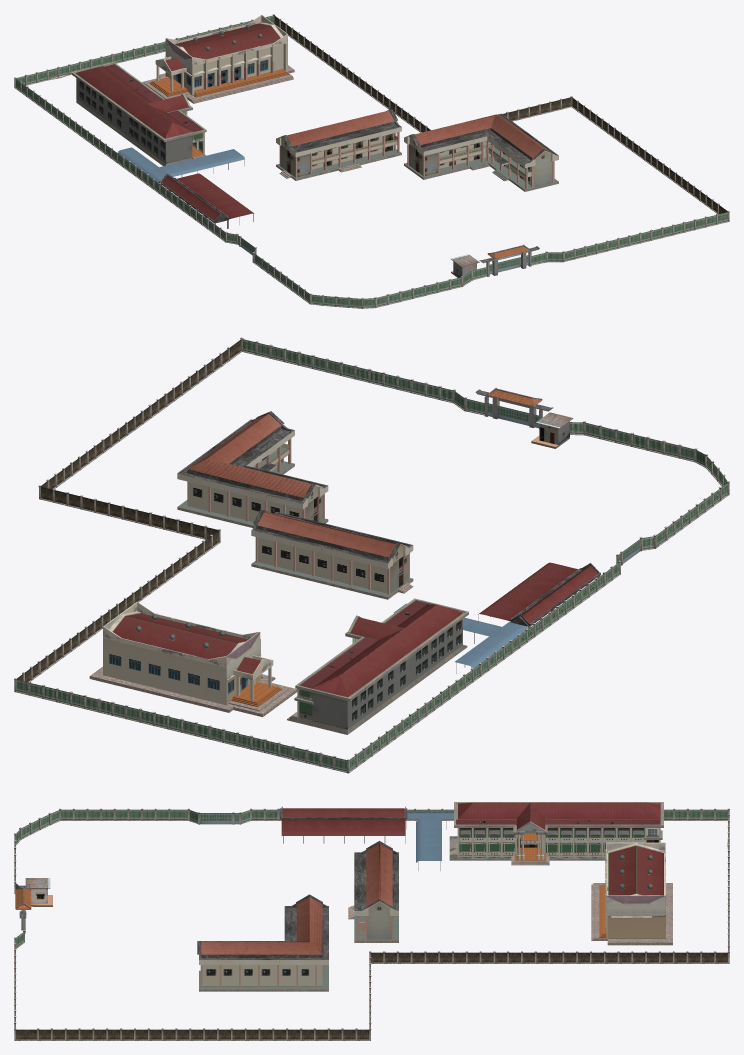
Rendered from Trung Tam Giao Duc Thuong Xuyen Tinh Binh Phuoc.glb.
3 views of the same model, one above another, from view 1: azimuth 30°, elevation 25°; view 2: azimuth 150°, elevation 25°; view 3: azimuth 270°, elevation 25° (orthographic). The views are drawn at different scales.
Visible parts, largest first — view 1: 1, 3, 5, 4, 2; view 2: 1, 3, 5, 4, 2; view 3: 1, 4, 3, 2, 5.
Boxes of the visible parts, left/top/right/bottom form: 1: left=14, top=14, right=729, bottom=308; 3: left=118, top=109, right=401, bottom=228; 5: left=141, top=15, right=294, bottom=103; 4: left=71, top=62, right=206, bottom=165; 2: left=404, top=113, right=558, bottom=191; 1: left=14, top=337, right=729, bottom=773; 3: left=251, top=509, right=600, bottom=673; 5: left=89, top=602, right=297, bottom=717; 4: left=287, top=598, right=468, bottom=734; 2: left=177, top=411, right=328, bottom=527; 1: left=14, top=808, right=729, bottom=1040; 4: left=449, top=802, right=663, bottom=865; 3: left=279, top=806, right=453, bottom=942; 2: left=197, top=894, right=328, bottom=991; 5: left=591, top=842, right=672, bottom=945.
Bounding box in the file's own units: 117 × 11.47 × 161.
Materials: 5 (5 with a texture image).
